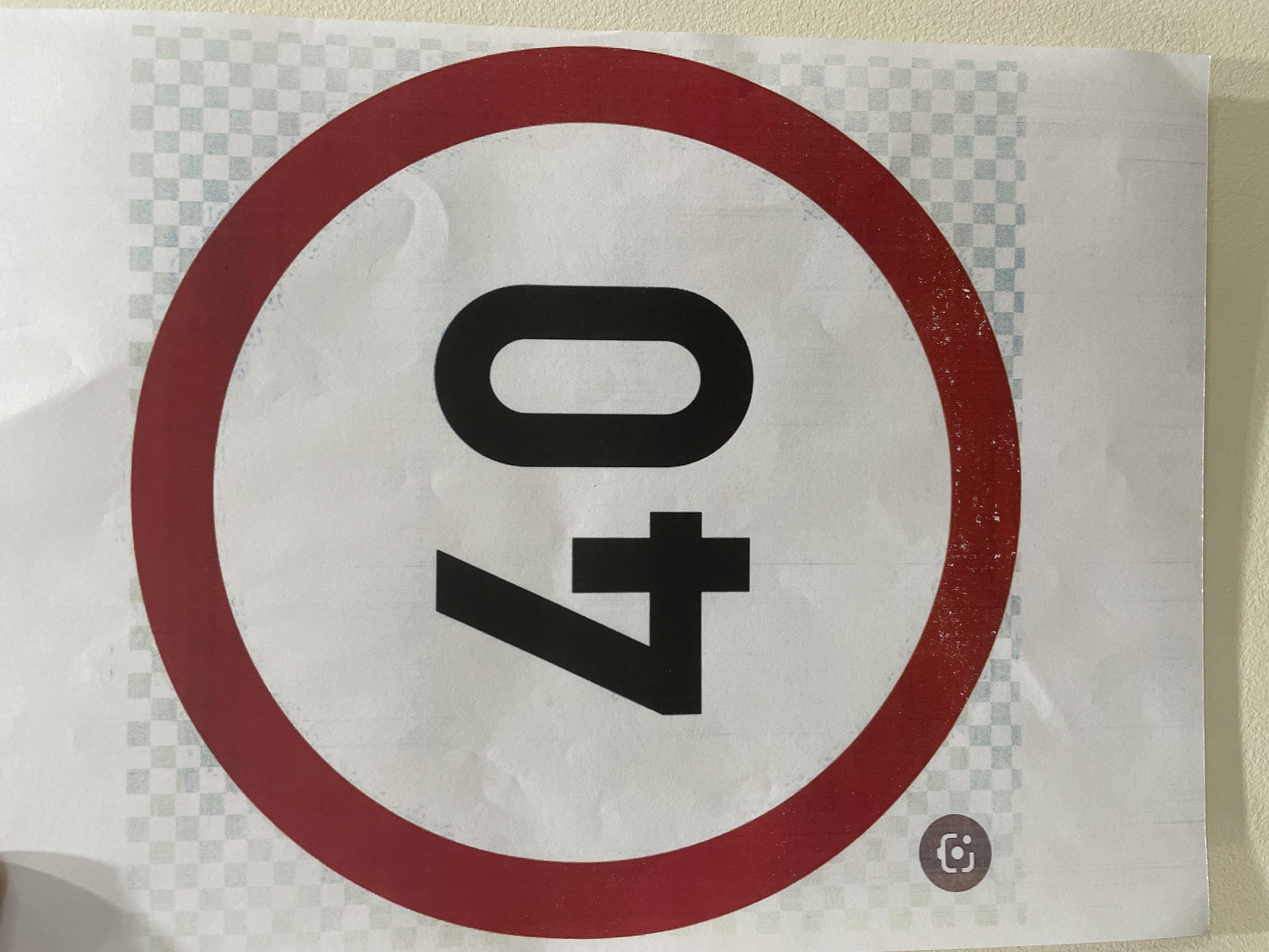40-Speed: (0, 85, 1217, 774)
